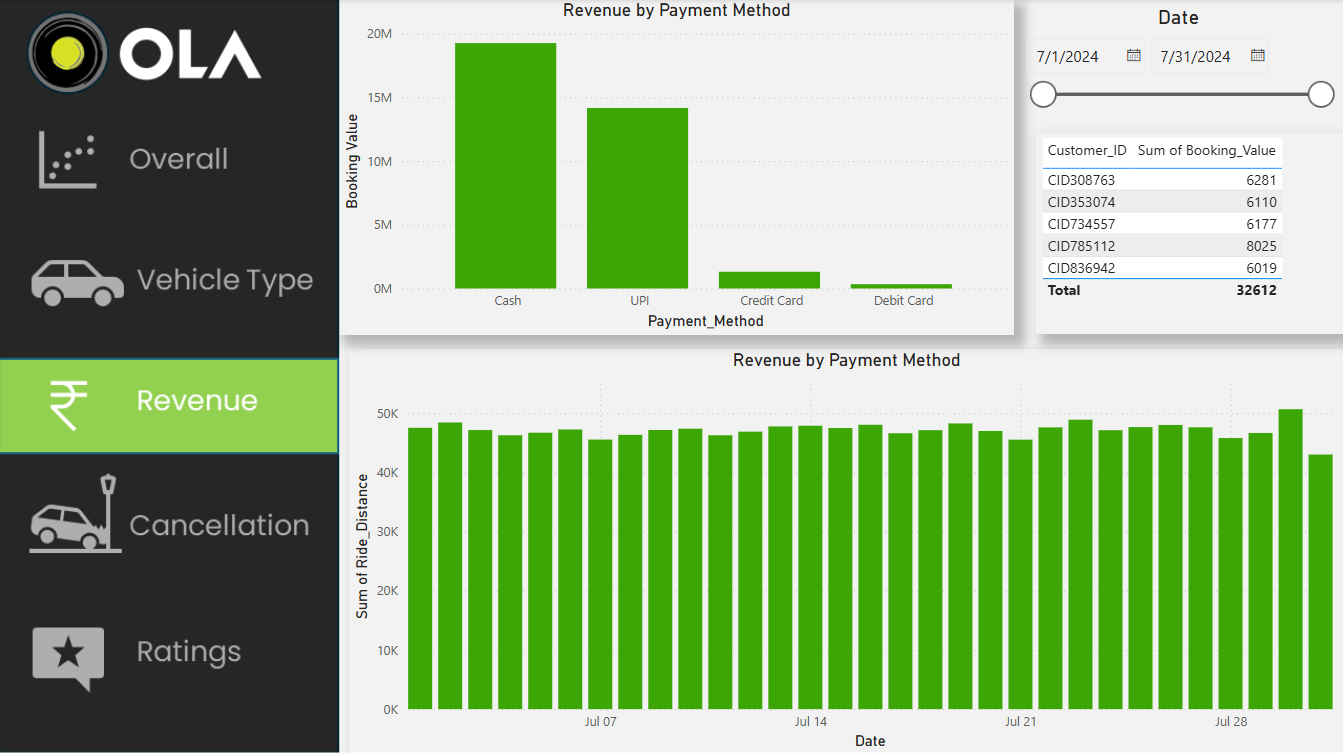

The page's visual inventory and layout, read from the dashboard file:
{"tool":"powerbi","page":{"name":"Revenue","canvas":[1280,720],"ordinal":2},"visuals":[{"type":"actionButton","box":[20.2,117.9,291.7,66.7],"z":0},{"type":"actionButton","box":[30.2,127.9,291.7,66.7],"z":1000},{"type":"actionButton","box":[20.2,232.1,291.7,66.7],"z":2000},{"type":"actionButton","box":[20.2,444,291.7,102.4],"z":3000},{"type":"actionButton","box":[20.2,591.7,291.7,78.6],"z":4000},{"type":"columnChart","title":"Revenue by Payment Method","fields":{"Y":["Sum(Ola.Booking_Value)"],"Category":["Ola.Payment_Method"]},"box":[322.5,0,643.6,319.7],"z":5000},{"type":"columnChart","title":"Revenue by Payment Method","fields":{"Y":["Sum(Ola.Ride_Distance)"],"Category":["Ola.Date"]},"box":[332.1,333.4,948.2,387],"z":6000},{"type":"slicer","title":"Date","fields":{"Values":["Ola.Date"]},"box":[966,5.5,314.2,122.1],"z":7000},{"type":"tableEx","fields":{"Values":["Ola.Customer_ID","Sum(Ola.Booking_Value)"]},"box":[986.6,127.6,293.7,192.1],"z":8000}]}

Visuals, with their boxes in screenshot pixels (x1, y1, x2, y2), scaled from the page's 1280x720 canvas onto the 1343x754 screenshot:
actionButton: (left=21, top=123, right=327, bottom=193)
actionButton: (left=32, top=134, right=338, bottom=204)
actionButton: (left=21, top=243, right=327, bottom=313)
actionButton: (left=21, top=465, right=327, bottom=572)
actionButton: (left=21, top=620, right=327, bottom=702)
"Revenue by Payment Method" columnChart: (left=338, top=0, right=1014, bottom=335)
"Revenue by Payment Method" columnChart: (left=348, top=349, right=1342, bottom=753)
"Date" slicer: (left=1014, top=6, right=1342, bottom=134)
tableEx - Ola.Customer_ID x Sum(Ola.Booking_Value): (left=1035, top=134, right=1342, bottom=335)
